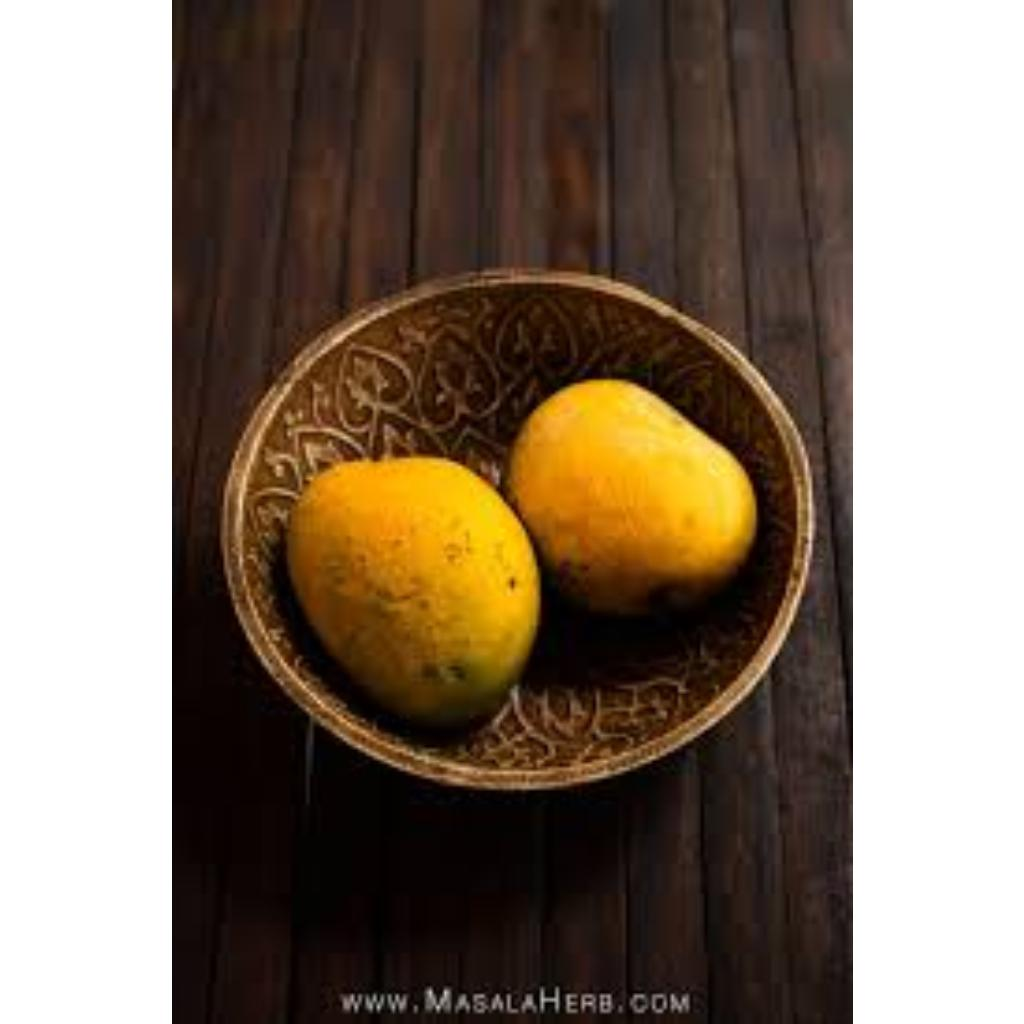mango: (286, 458, 536, 734), (511, 390, 736, 603)
